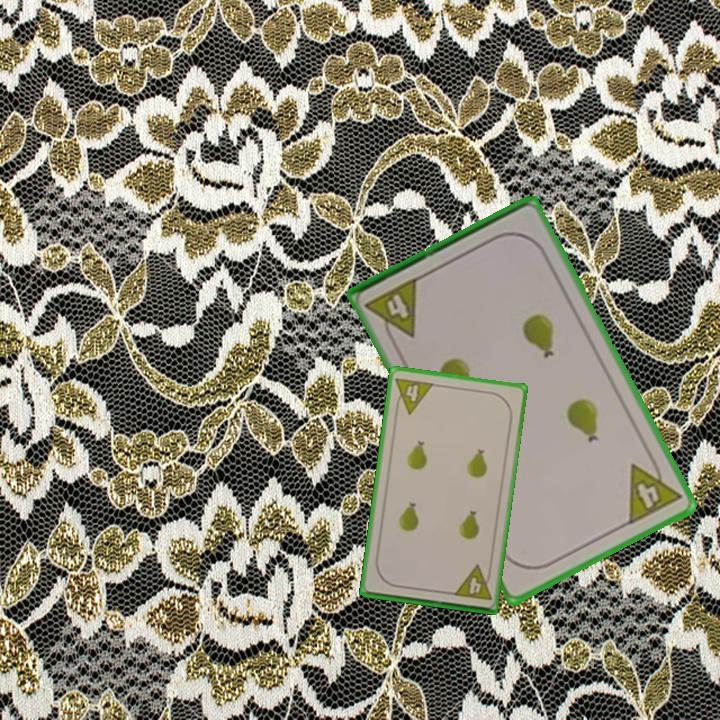4p: (624, 451, 685, 528), (362, 273, 422, 348), (391, 374, 437, 417), (450, 562, 494, 603)
